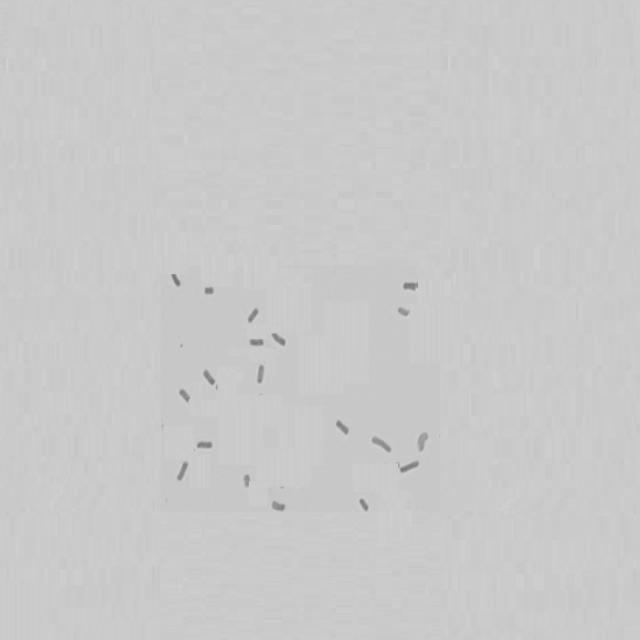E-coli: (396, 459, 422, 481), (413, 429, 433, 457), (330, 419, 354, 437), (370, 434, 390, 454), (175, 460, 189, 488), (253, 362, 267, 389), (354, 494, 369, 516), (177, 386, 192, 408), (246, 304, 260, 327), (203, 280, 217, 302), (271, 497, 287, 515), (396, 305, 415, 320), (196, 439, 216, 453), (249, 334, 264, 352), (403, 278, 421, 292), (201, 370, 215, 388), (272, 331, 286, 349), (169, 272, 182, 290), (242, 472, 252, 492)
